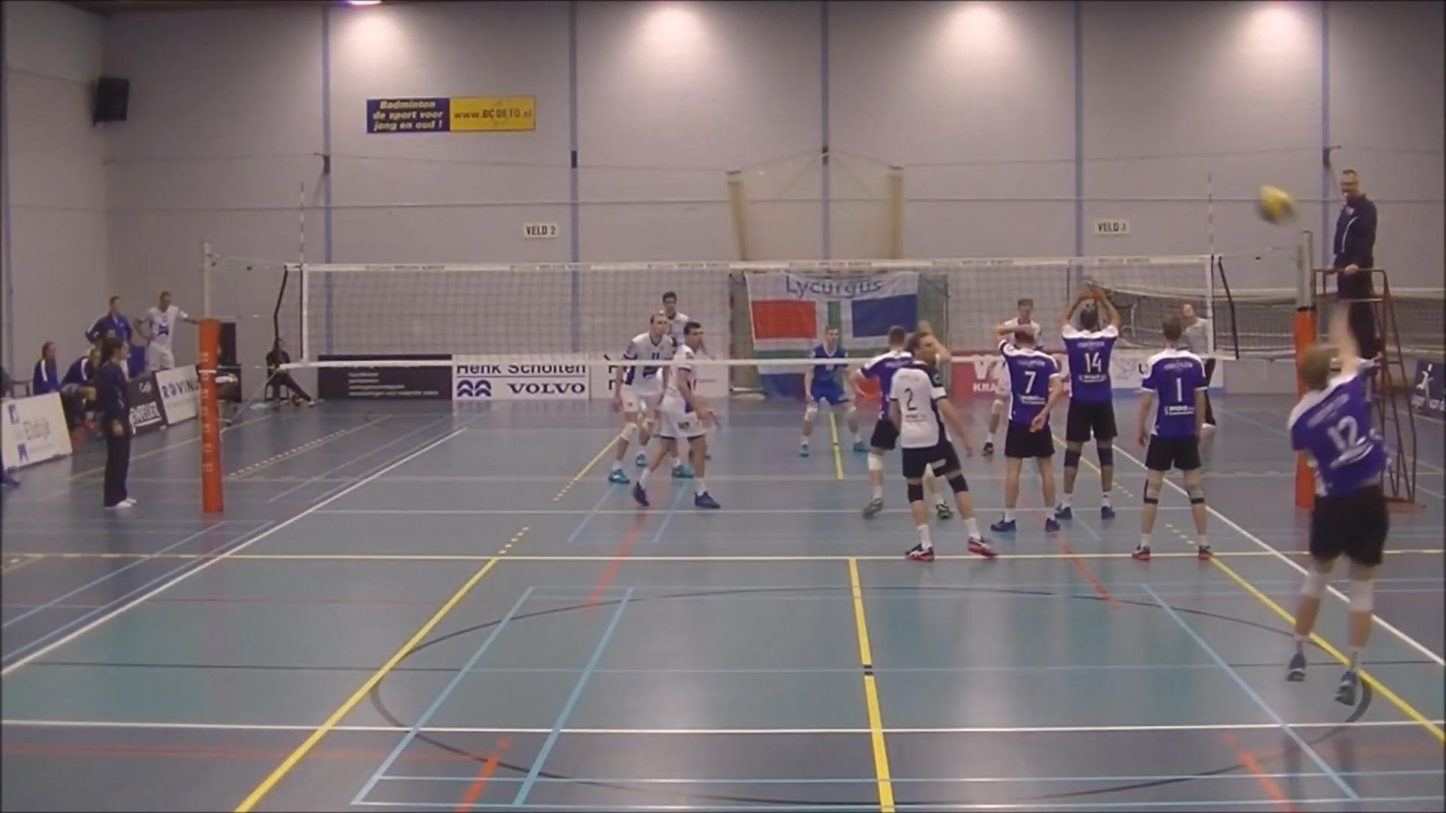Player: (888, 333, 995, 561), (1132, 316, 1211, 560), (632, 321, 718, 508), (1055, 283, 1121, 518), (991, 326, 1063, 532), (849, 325, 912, 517), (608, 312, 676, 483), (799, 326, 865, 456), (982, 362, 1008, 455), (661, 292, 691, 347), (663, 291, 689, 347)
Serve: (1257, 281, 1398, 713)
ball: (1258, 187, 1297, 224)
